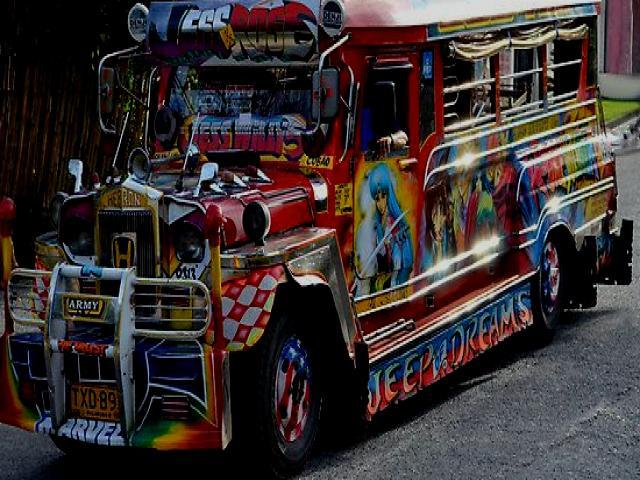jeepney: (4, 0, 640, 467)
